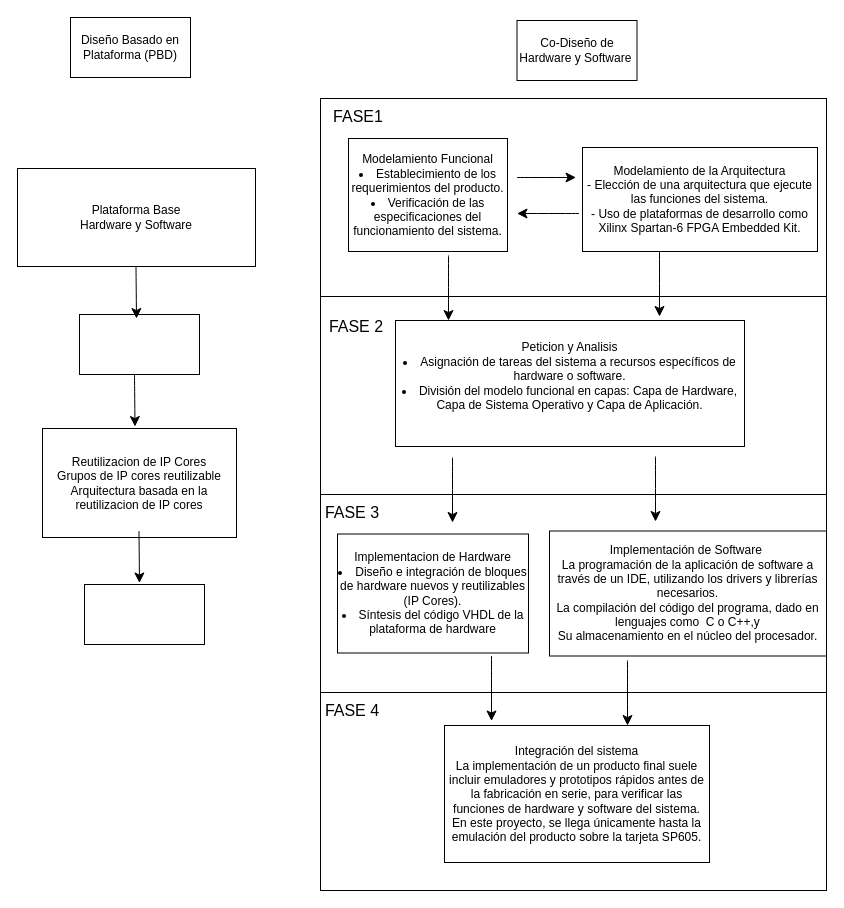
The diagram is 844 pixels wide and 908 high, and some of its shapes have lost their labels. Here are the shapes that lost their labels. From the top down, the centre of each, then its label:
point (139, 344): Familia de Productos Productos con características comunes
point (144, 614): Proceso de Diseño Facilitacion de la verificacion de SoC complejos
